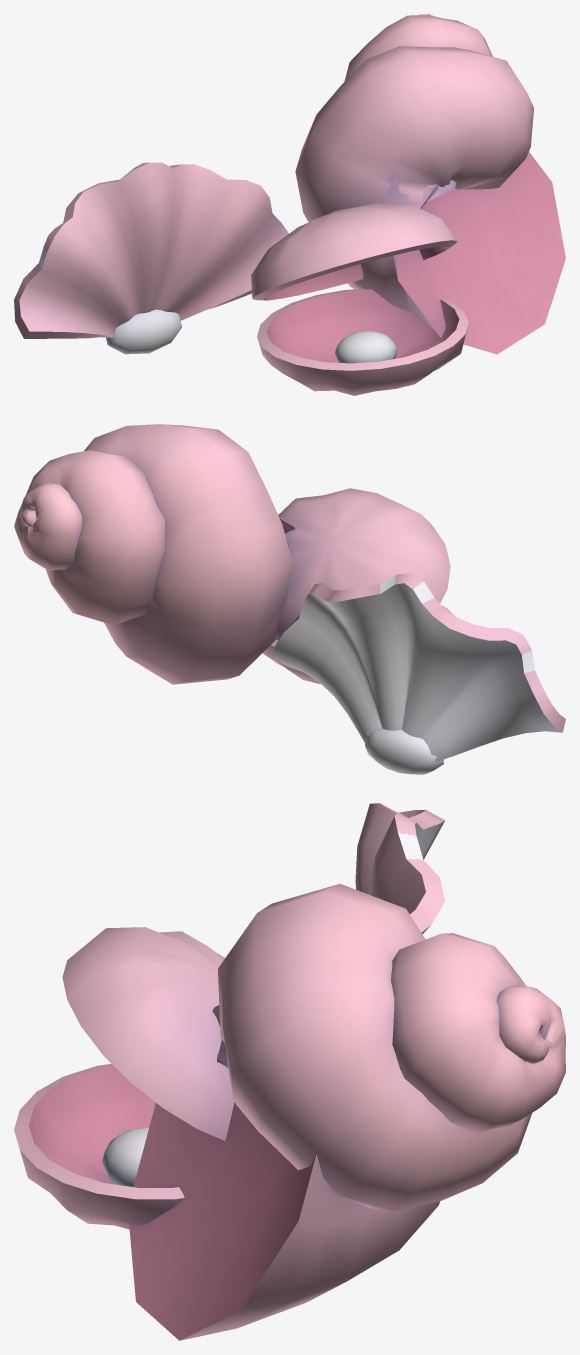
The model's file is CC_P05_Shells.fbx.
3 renders of one model, top to bottom at view 1: azimuth 30°, elevation 25°; view 2: azimuth 150°, elevation 25°; view 3: azimuth 270°, elevation 25°, orthographic. The views are drawn at different scales.
Parts seen in each view (by area): view 1: Conch, Scallop, Clam; view 2: Conch, Scallop, Clam; view 3: Conch, Clam, Scallop.
Boxes of the visible parts, box(x1,y1,x2,y2) form: Conch: box(295, 14, 565, 354); Scallop: box(14, 162, 288, 354); Clam: box(251, 203, 468, 395); Conch: box(14, 424, 294, 684); Scallop: box(274, 573, 565, 774); Clam: box(262, 488, 455, 684); Conch: box(129, 884, 565, 1340); Clam: box(14, 927, 233, 1229); Scallop: box(355, 803, 444, 934).
Bounding box in the file's own units: 0.9104 × 0.4442 × 0.5646.
